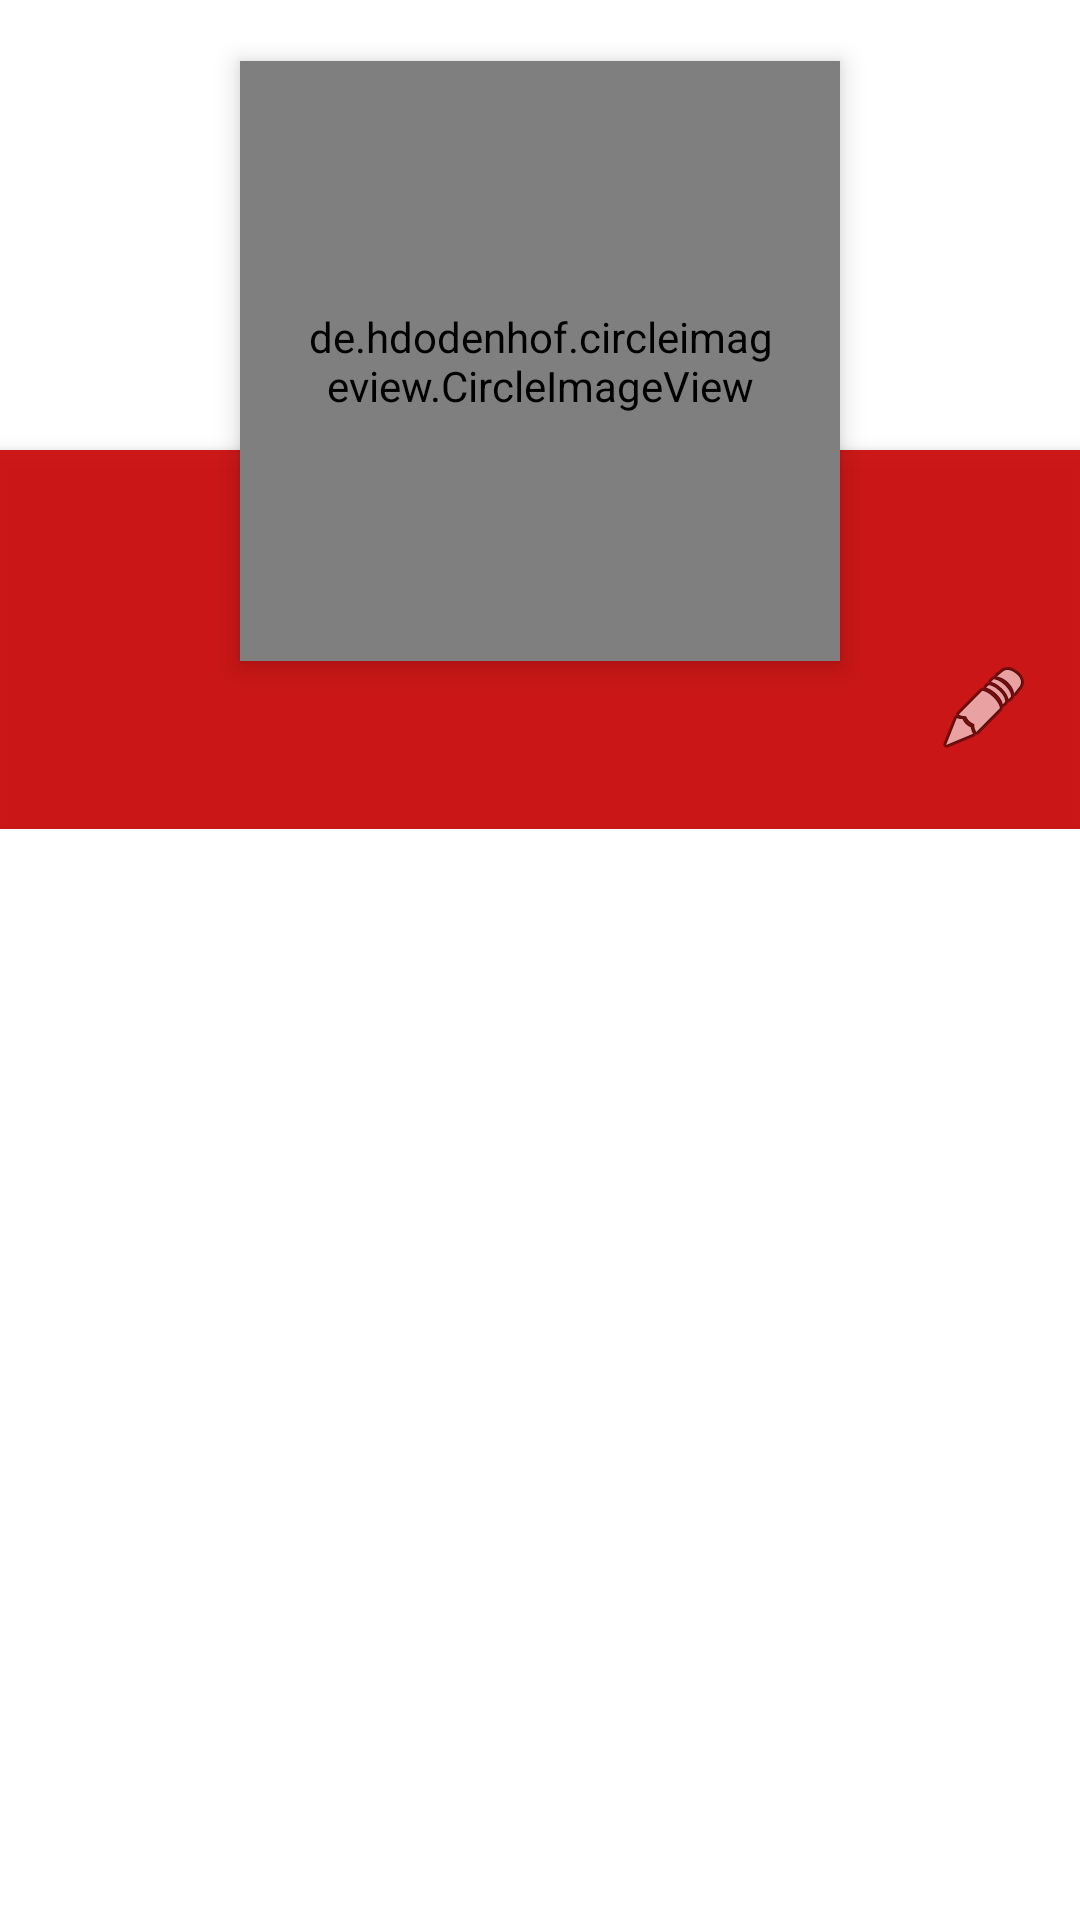

Icons on this 1080*1920 Android screen, each with its box as (x1, y1, x2, y2):
edit: (943, 667, 1024, 748)
